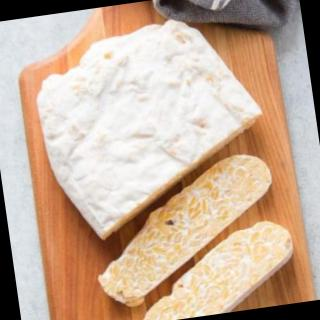Tempe: (79, 149, 302, 320)
